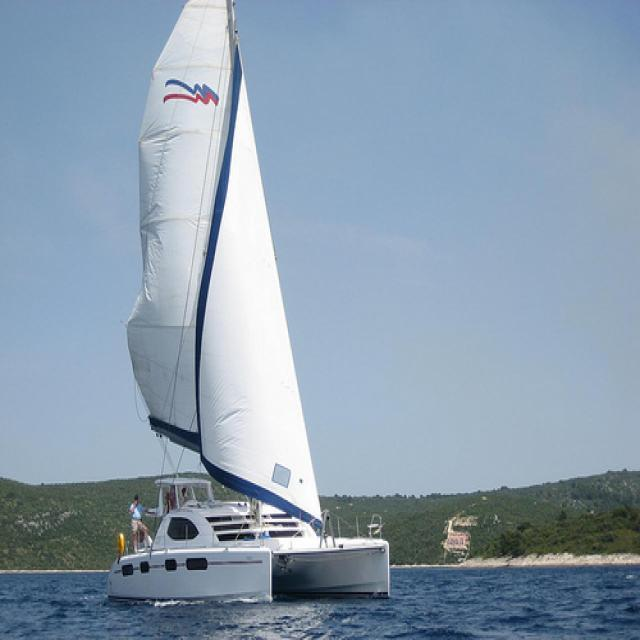Ship: (110, 7, 398, 607)
